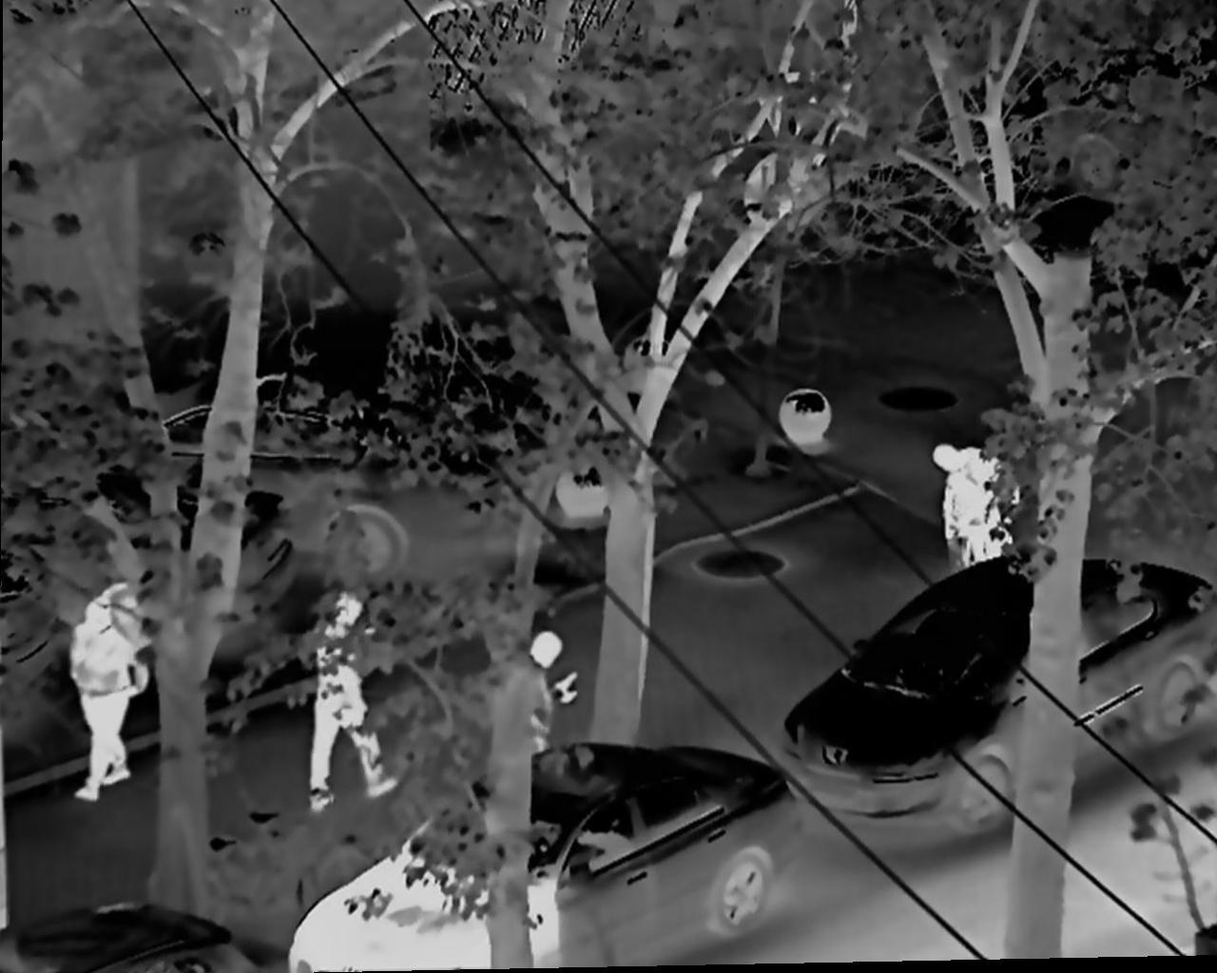person: (293, 587, 403, 817), (65, 575, 165, 808), (926, 425, 1009, 601), (499, 624, 577, 806)
